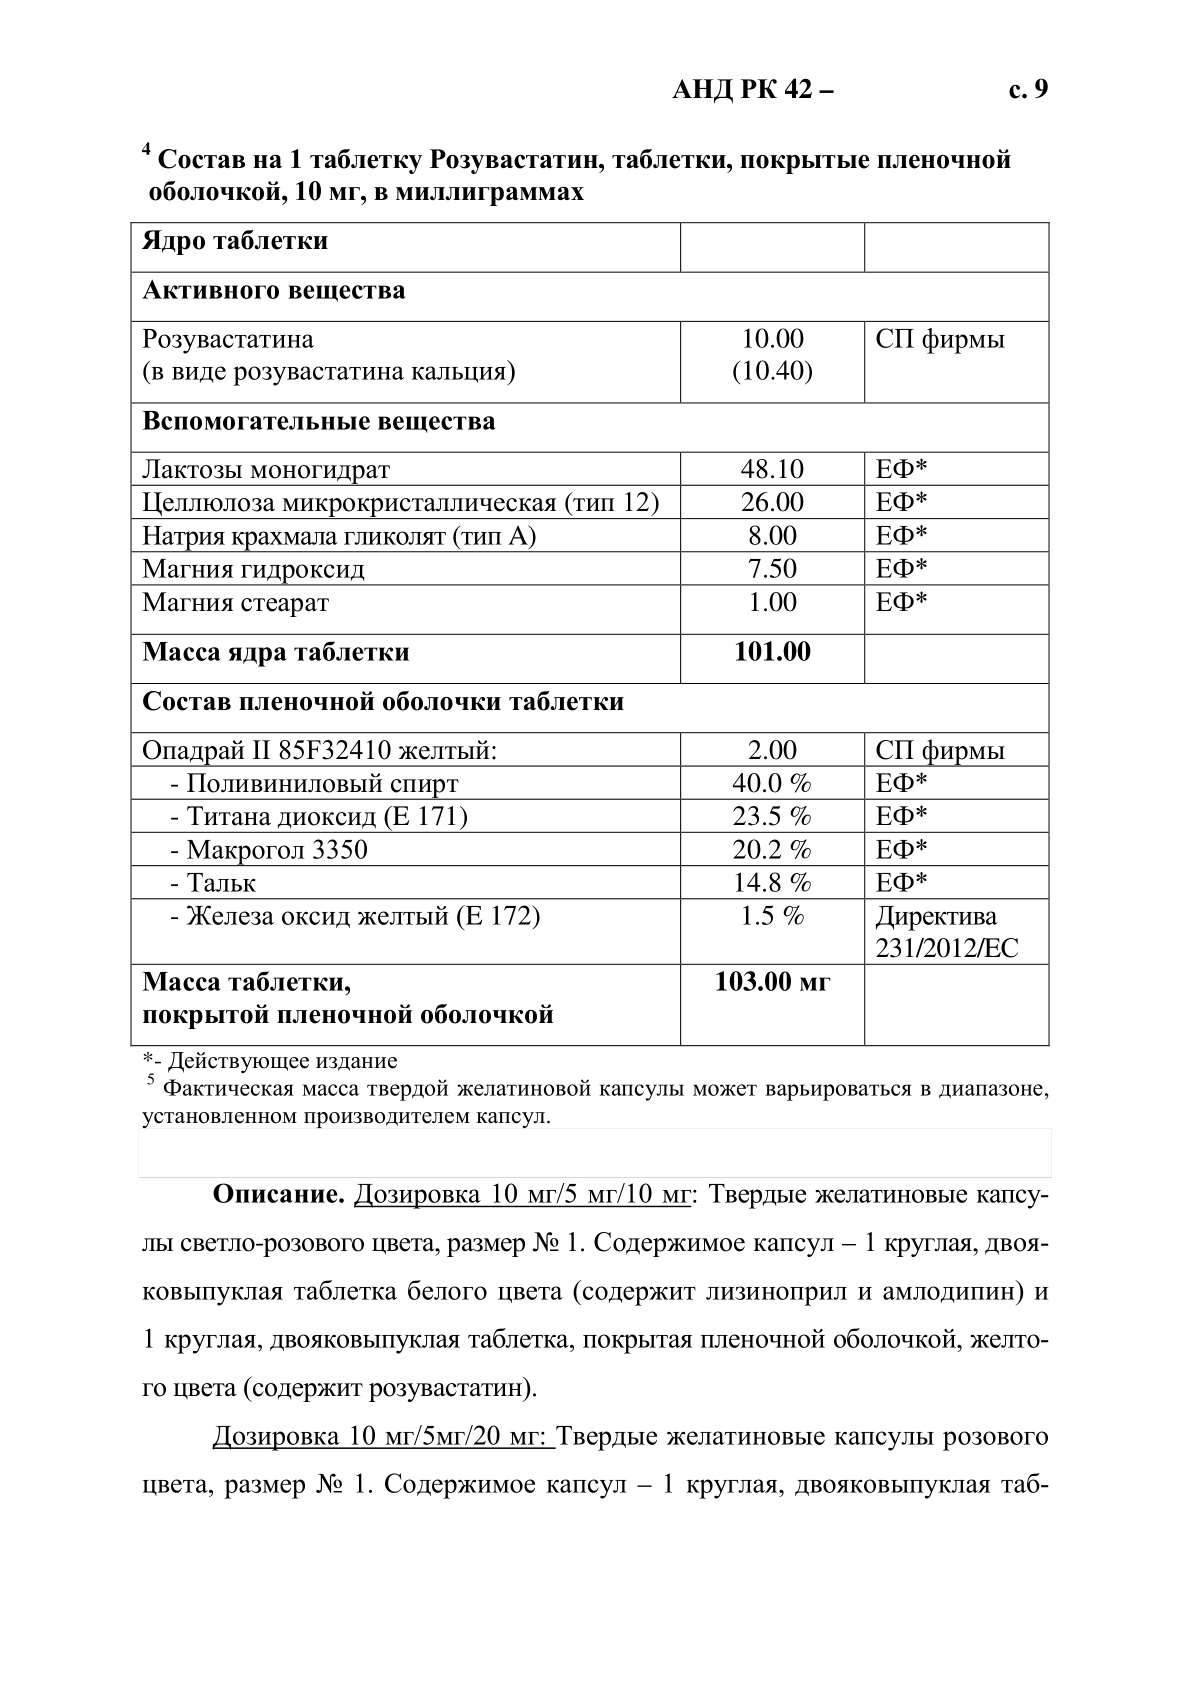merged_cells: (129, 222, 1051, 1048)
